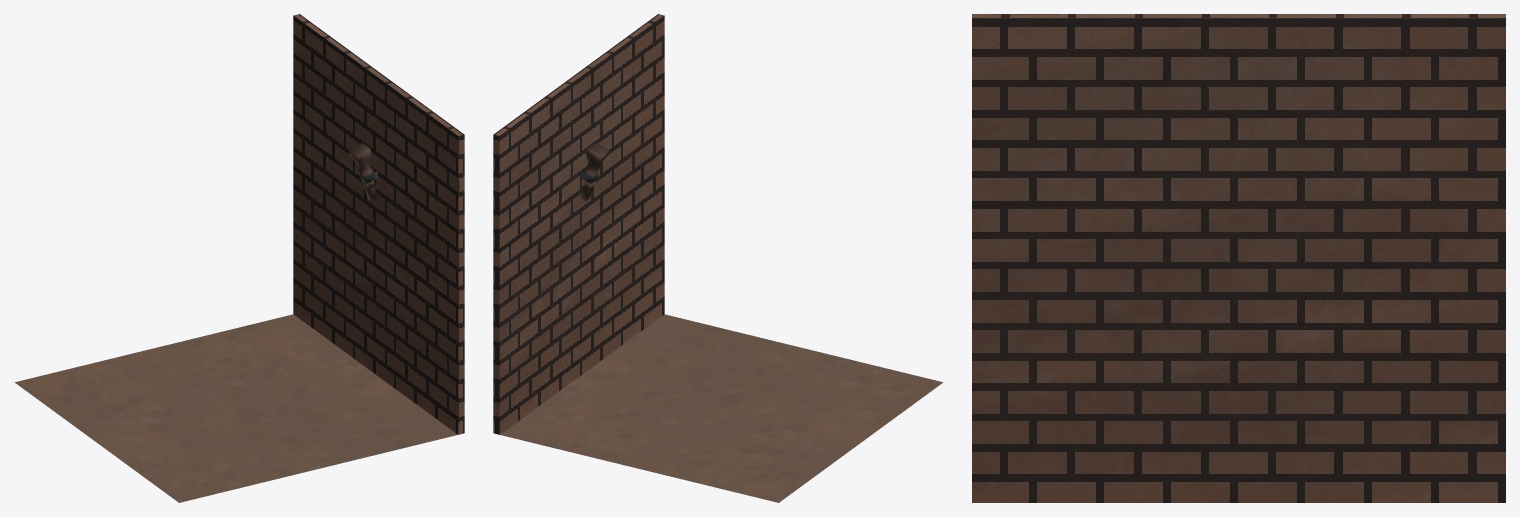
Rendered from wallLeftTorchlight.glb.
3 views of the same model, side by side, from view 1: azimuth 30°, elevation 25°; view 2: azimuth 150°, elevation 25°; view 3: azimuth 270°, elevation 25° (orthographic). The views are drawn at different scales.
Parts seen in each view (by area): view 1: wallLeft-col, torch-col; view 2: wallLeft-col, torch-col; view 3: wallLeft-col.
Boxes of the visible parts, x1,y1,x2,y2 form: wallLeft-col: (15,14,464,502); torch-col: (349,143,377,201); wallLeft-col: (493,14,942,502); torch-col: (580,143,608,201); wallLeft-col: (972,14,1505,502).
Bounding box in the file's own units: 4 × 4 × 4.
Materials: 2 (2 with a texture image).
